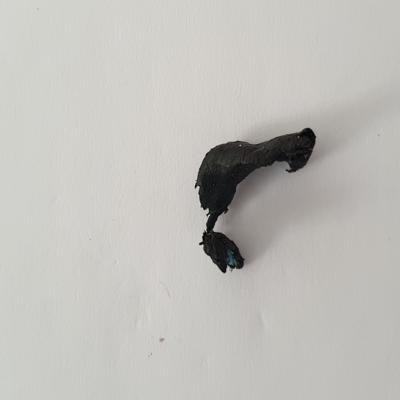plastic: (191, 121, 321, 278)
